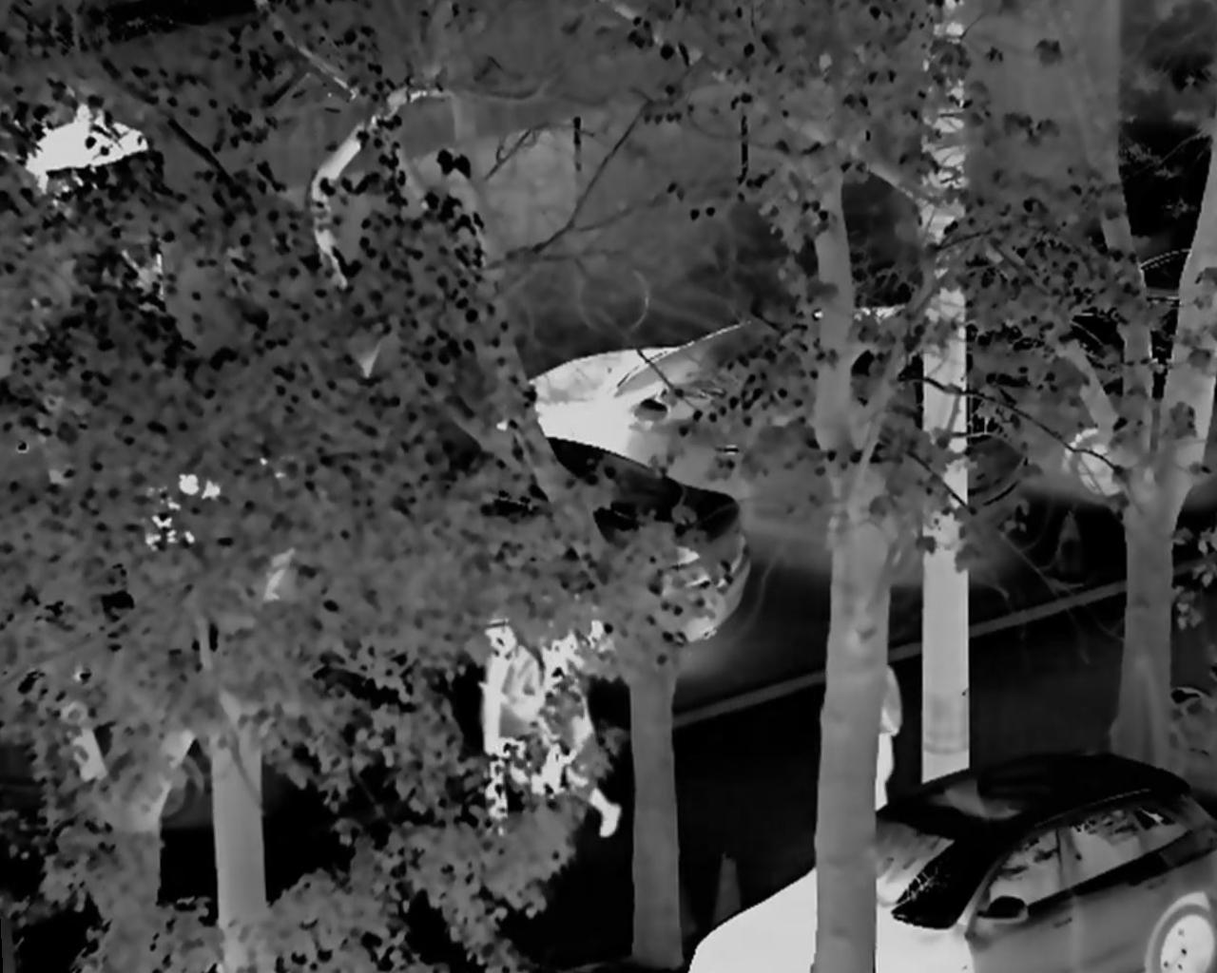person: (539, 620, 618, 838), (479, 620, 539, 841), (850, 655, 905, 833)
